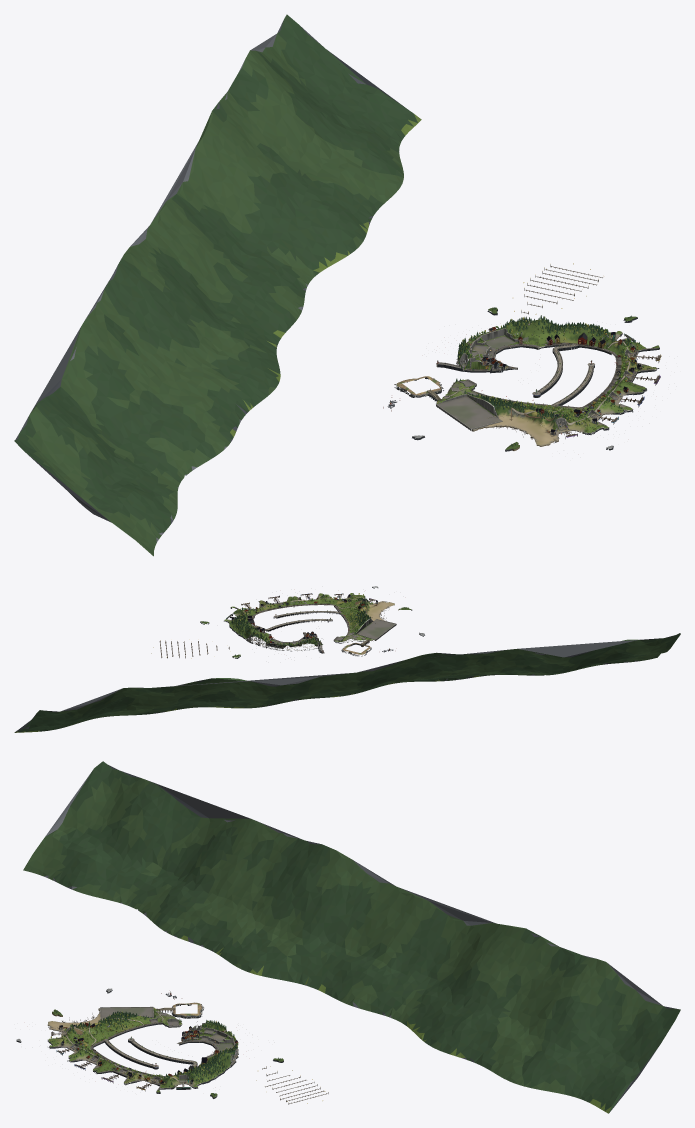
The model's file is island.glb.
The picture shows the model from 3 angles, top to bottom: view 1: azimuth 30°, elevation 25°; view 2: azimuth 150°, elevation 25°; view 3: azimuth 270°, elevation 25°; orthographic projection. The views are drawn at different scales.
Parts seen in each view (by area): view 1: shakkei, island_ws_opaque, island_es_opaque, island_en_opaque, island_wn_opaque; view 2: shakkei, island_ws_opaque, island_es_opaque, island_en_opaque, island_wn_opaque; view 3: shakkei, island_ws_opaque, island_es_opaque, island_en_opaque, island_wn_opaque.
Boxes of the visible parts, x1,y1,x2,y2 form: shakkei: [14, 14, 421, 556]; island_ws_opaque: [412, 328, 633, 451]; island_es_opaque: [430, 307, 661, 446]; island_en_opaque: [487, 263, 638, 353]; island_wn_opaque: [383, 328, 518, 411]; shakkei: [14, 633, 680, 732]; island_ws_opaque: [250, 586, 424, 648]; island_es_opaque: [203, 593, 406, 655]; island_en_opaque: [151, 608, 279, 658]; island_wn_opaque: [268, 631, 393, 656]; shakkei: [23, 761, 680, 1113]; island_ws_opaque: [16, 988, 234, 1082]; island_es_opaque: [47, 1010, 280, 1095]; island_en_opaque: [168, 1041, 328, 1104]; island_wn_opaque: [161, 991, 237, 1052].
Bounding box in the file's own units: 1855 × 276 × 1891.
